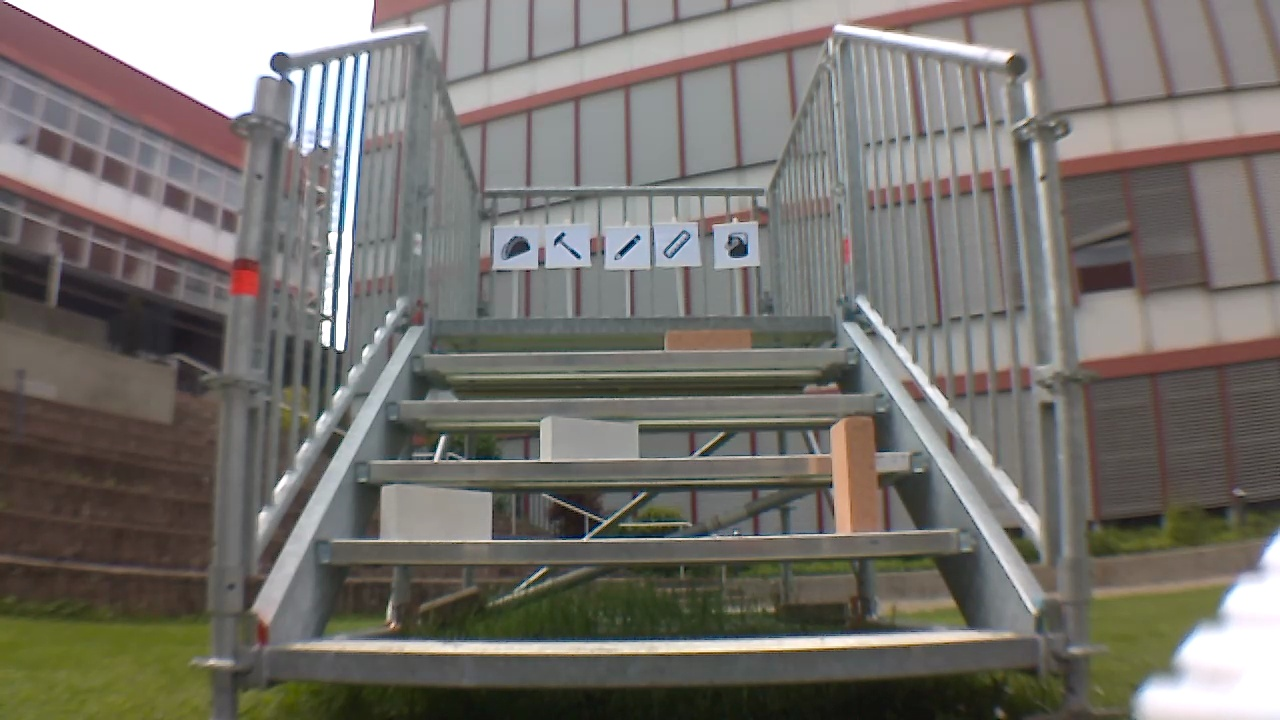brick: (380, 486, 489, 539), (831, 418, 877, 532), (539, 419, 636, 459), (665, 328, 748, 348)
bucket: (719, 230, 752, 259)
edge: (266, 635, 1035, 686), (315, 531, 984, 563), (355, 453, 935, 479), (386, 393, 890, 419), (408, 348, 861, 369), (429, 314, 833, 335)
hammer: (549, 229, 585, 264)
pencil: (610, 229, 643, 262)
ruler: (657, 228, 692, 258)
stairs: (195, 26, 1094, 714)
steps: (264, 310, 1048, 706)
taco: (499, 233, 533, 264)
